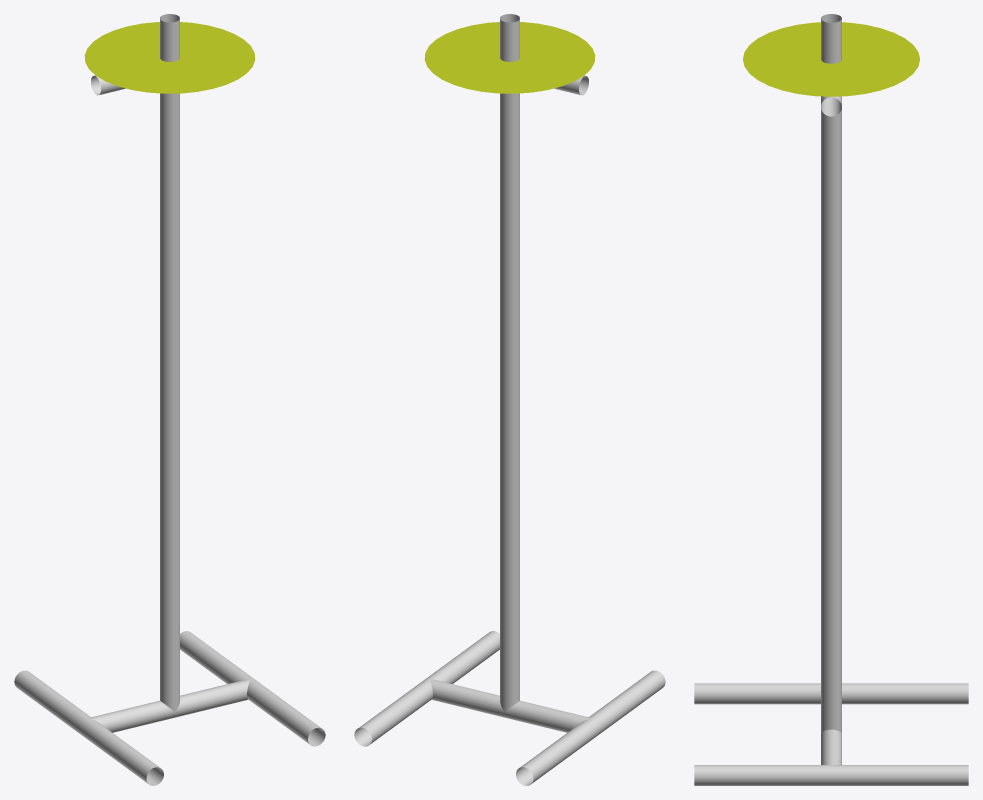
File: crucifix_tower.dae
3 views of the same model, side by side, from view 1: azimuth 30°, elevation 25°; view 2: azimuth 150°, elevation 25°; view 3: azimuth 270°, elevation 25° (orthographic). The views are drawn at different scales.
Parts seen in each view (by area): view 1: Cylinder.003, Circle, Cylinder.001, Cylinder.002, Cylinder, Cylinder.005; view 2: Cylinder.003, Circle, Cylinder.001, Cylinder.002, Cylinder, Cylinder.005; view 3: Cylinder.003, Circle, Cylinder.002, Cylinder.001, Cylinder.005, Cylinder.
Part boxes in pixels (bbox=[...]): Cylinder.003: bbox=[160, 93, 179, 711]; Circle: bbox=[84, 22, 255, 93]; Cylinder.001: bbox=[14, 670, 163, 785]; Cylinder.002: bbox=[180, 631, 325, 746]; Cylinder: bbox=[89, 679, 250, 732]; Cylinder.005: bbox=[160, 14, 179, 61]; Cylinder.003: bbox=[500, 93, 519, 711]; Circle: bbox=[424, 22, 595, 93]; Cylinder.001: bbox=[516, 670, 665, 785]; Cylinder.002: bbox=[354, 631, 499, 746]; Cylinder: bbox=[429, 679, 590, 732]; Cylinder.005: bbox=[500, 14, 519, 61]; Cylinder.003: bbox=[821, 109, 841, 733]; Circle: bbox=[743, 22, 919, 96]; Cylinder.002: bbox=[694, 765, 968, 785]; Cylinder.001: bbox=[694, 683, 968, 704]; Cylinder.005: bbox=[821, 14, 841, 63]; Cylinder: bbox=[821, 729, 841, 765].
Size of the model in its own units: 0.3378 by 0.4318 by 1.26.
